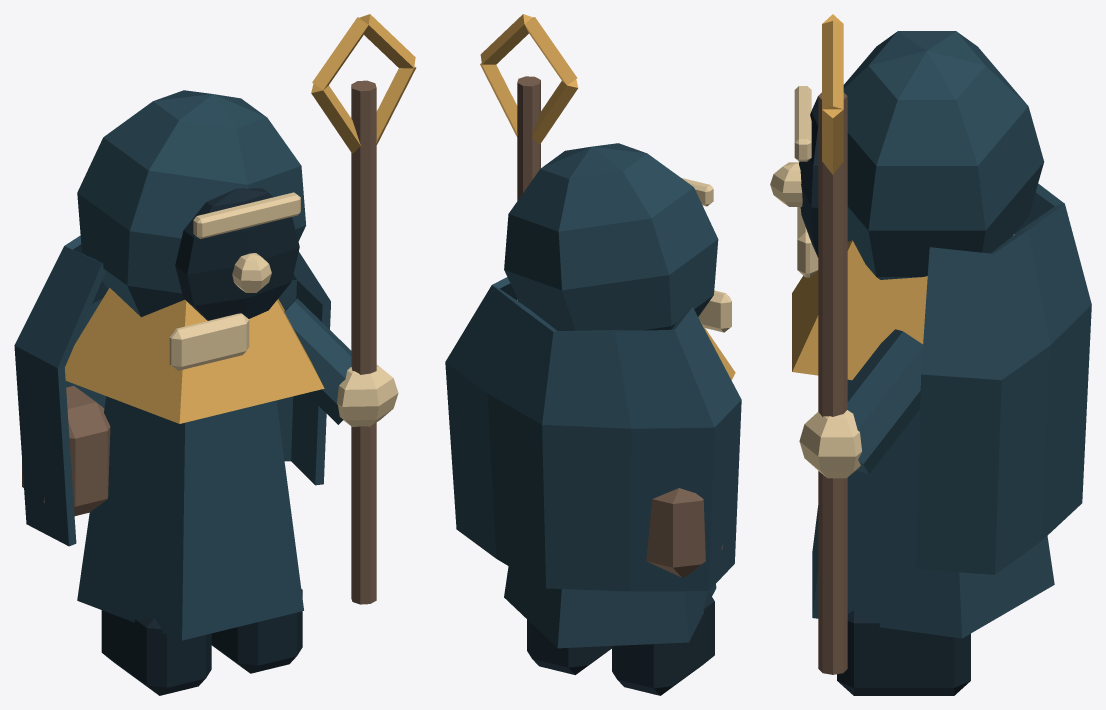
File: mage.glb
The picture shows the model from 3 angles, left to right: view 1: azimuth 30°, elevation 25°; view 2: azimuth 150°, elevation 25°; view 3: azimuth 270°, elevation 25°; orthographic projection. The views are drawn at different scales.
Parts seen in each view (by area): view 1: mage_solid, mage_mantle; view 2: mage_mantle, mage_solid; view 3: mage_solid, mage_mantle.
Boxes of the visible parts, <box> form: mage_solid: <box>22,14,416,695</box>; mage_mantle: <box>14,235,330,546</box>; mage_mantle: <box>445,277,741,591</box>; mage_solid: <box>480,14,735,695</box>; mage_solid: <box>770,14,1054,695</box>; mage_mantle: <box>916,183,1091,574</box>.
Bounding box in the file's own units: 1.01 × 1.88 × 0.7687.
